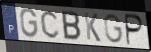B: (60, 9, 82, 42)
C: (40, 9, 61, 40)
G: (103, 13, 125, 45), (19, 7, 39, 39)
K: (83, 11, 102, 43)
P: (125, 13, 145, 47)
